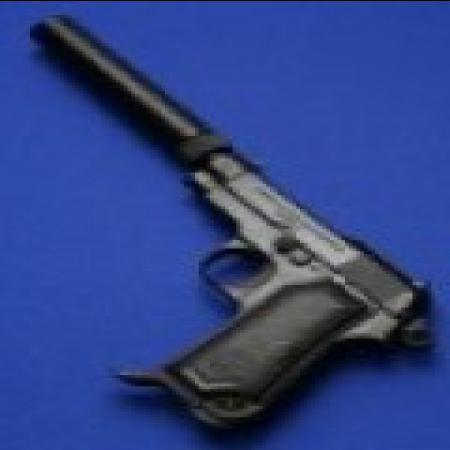Pistol: (30, 11, 442, 433)
